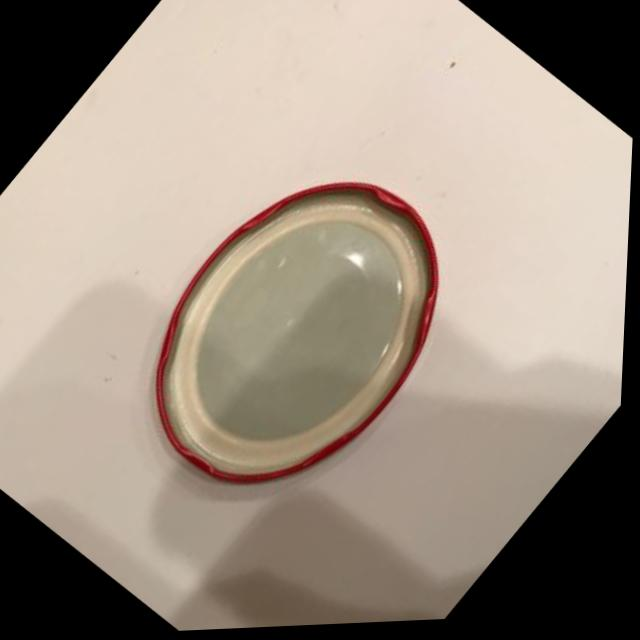metal: (36, 52, 579, 613)
